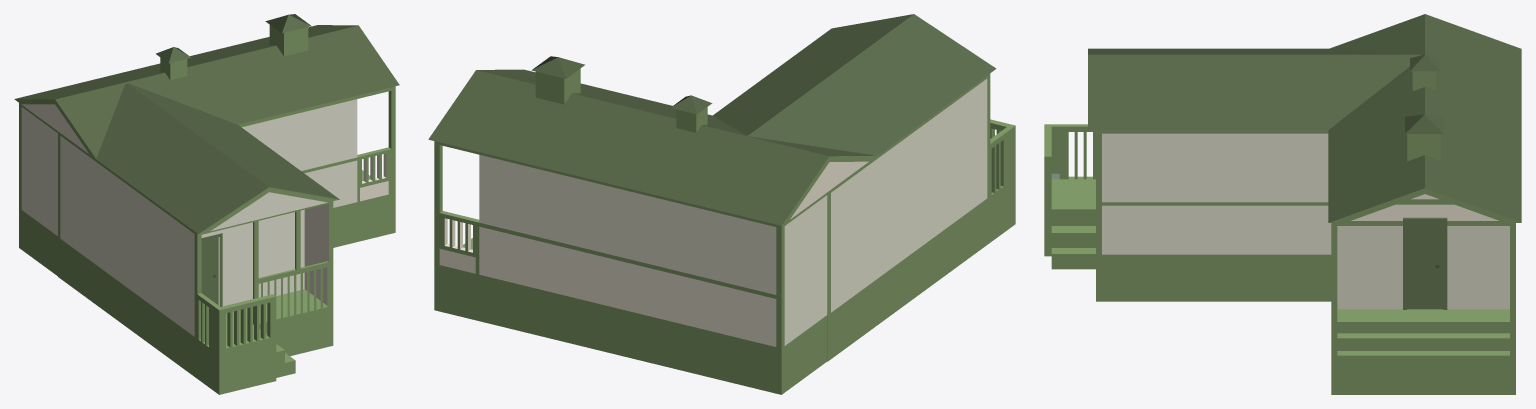
The model's file is KidsClub.glb.
The picture shows the model from 3 angles, left to right: view 1: azimuth 30°, elevation 25°; view 2: azimuth 150°, elevation 25°; view 3: azimuth 270°, elevation 25°; orthographic projection. The views are drawn at different scales.
Parts seen in each view (by area): view 1: Mesh10 KidsClub1 Model, Mesh4 Group2 KidsClub1 Model, Mesh11 KidsClub1 Model, Mesh1 Group1 KidsClub1 Model, Mesh12 KidsClub1 Model, Mesh3 Group2 KidsClub1 Model, Mesh8 Group3 KidsClub1 Model; view 2: Mesh10 KidsClub1 Model, Mesh11 KidsClub1 Model, Mesh1 Group1 KidsClub1 Model, Mesh12 KidsClub1 Model; view 3: Mesh10 KidsClub1 Model, Mesh11 KidsClub1 Model, Mesh1 Group1 KidsClub1 Model, Mesh8 Group3 KidsClub1 Model, Mesh12 KidsClub1 Model.
Part boxes in pixels (<box>): Mesh10 KidsClub1 Model: <box>14,25,399,394</box>; Mesh4 Group2 KidsClub1 Model: <box>201,237,218,305</box>; Mesh11 KidsClub1 Model: <box>269,25,308,56</box>; Mesh1 Group1 KidsClub1 Model: <box>265,14,311,33</box>; Mesh12 KidsClub1 Model: <box>160,57,187,80</box>; Mesh3 Group2 KidsClub1 Model: <box>201,233,222,306</box>; Mesh8 Group3 KidsClub1 Model: <box>156,47,191,63</box>; Mesh10 KidsClub1 Model: <box>428,14,1015,394</box>; Mesh11 KidsClub1 Model: <box>535,68,580,104</box>; Mesh1 Group1 KidsClub1 Model: <box>531,56,585,78</box>; Mesh12 KidsClub1 Model: <box>676,107,707,132</box>; Mesh10 KidsClub1 Model: <box>1044,14,1521,394</box>; Mesh11 KidsClub1 Model: <box>1407,134,1440,161</box>; Mesh1 Group1 KidsClub1 Model: <box>1405,114,1443,133</box>; Mesh8 Group3 KidsClub1 Model: <box>1410,54,1440,71</box>; Mesh12 KidsClub1 Model: <box>1412,71,1435,90</box>.
Size of the model in its own units: 274 by 177 by 317.
